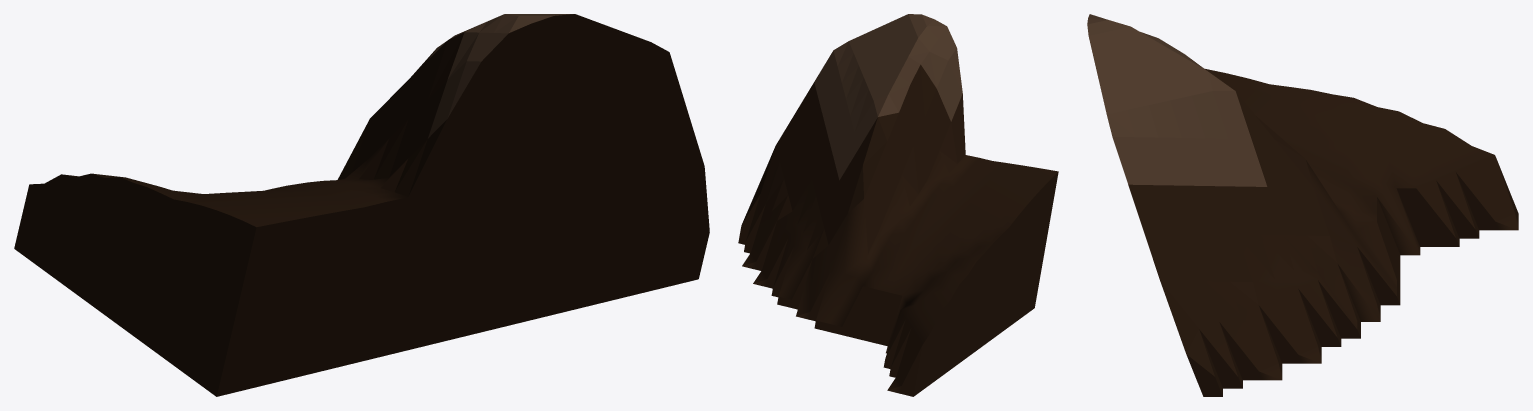
File: ixm_boss_165.glb
3 views of the same model, side by side, from view 1: azimuth 30°, elevation 25°; view 2: azimuth 150°, elevation 25°; view 3: azimuth 270°, elevation 25° (orthographic). The views are drawn at different scales.
Visible parts, largest first — view 1: ixm_boss_165; view 2: ixm_boss_165; view 3: ixm_boss_165.
Boxes of the visible parts, x1,y1,x2,y2 form: ixm_boss_165: (14, 14, 709, 396); ixm_boss_165: (738, 14, 1058, 396); ixm_boss_165: (1087, 14, 1518, 396).
Size of the model in its own units: 11 by 8.1 by 10.95.
